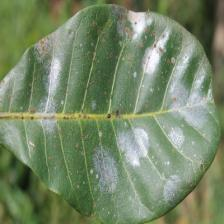red rust: (0, 4, 221, 223)
